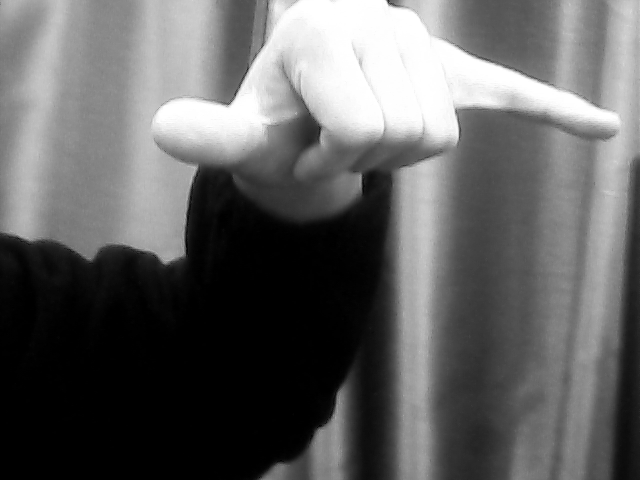aloha: (148, 1, 622, 195)
